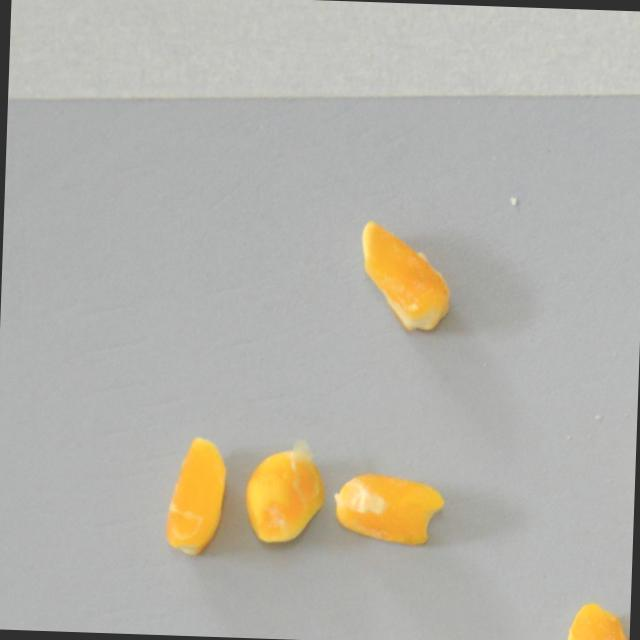pelicula: (356, 216, 456, 336), (246, 436, 330, 550), (332, 469, 448, 547), (166, 431, 230, 558), (565, 599, 630, 640)
